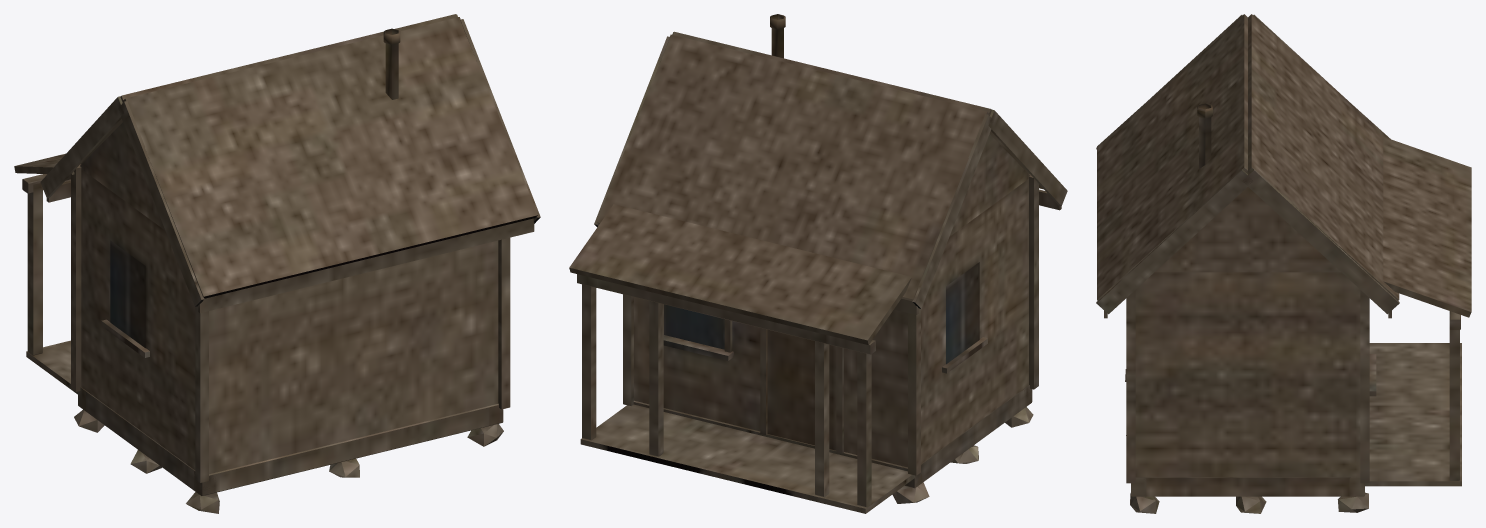
File: b_house_far.glb
The picture shows the model from 3 angles, left to right: view 1: azimuth 30°, elevation 25°; view 2: azimuth 150°, elevation 25°; view 3: azimuth 270°, elevation 25°; orthographic projection. The views are drawn at different scales.
Visible parts, largest first — view 1: b_house_far; view 2: b_house_far; view 3: b_house_far.
Boxes of the visible parts, x1,y1,x2,y2 form: b_house_far: (14,14,540,513); b_house_far: (569,14,1067,513); b_house_far: (1096,14,1471,513).
Size of the model in its own units: 3.88 by 4.35 by 3.94.
1 material, 1 textured.
